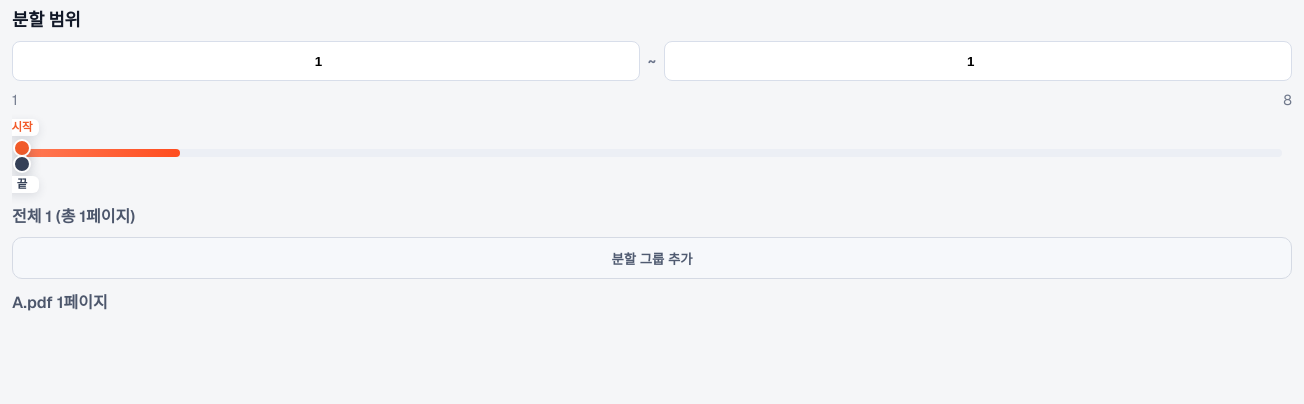
Test: SplitGroupEditor › 여러 PDF를 전체 페이지 범위로 그룹화하되 요약은 PDF별 페이지 번호로 표시한다
This screenshot has width=1304, height=404.
Replace the text in the number field named "전체 시작 페이지" with "3" at (326, 61), box [12,41,640,81]
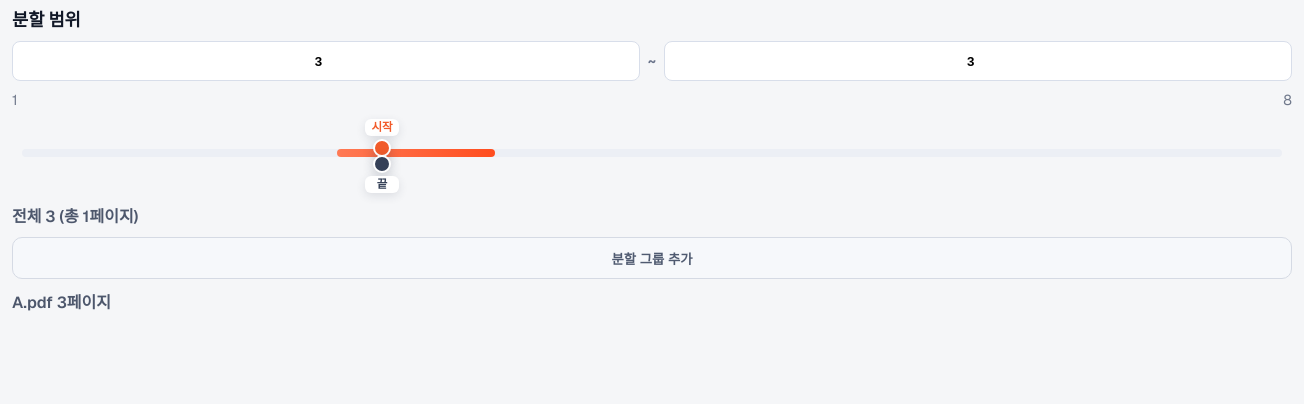
Replace the text in the number field named "전체 끝 페이지" with "8" at (978, 61), box [664,41,1292,81]
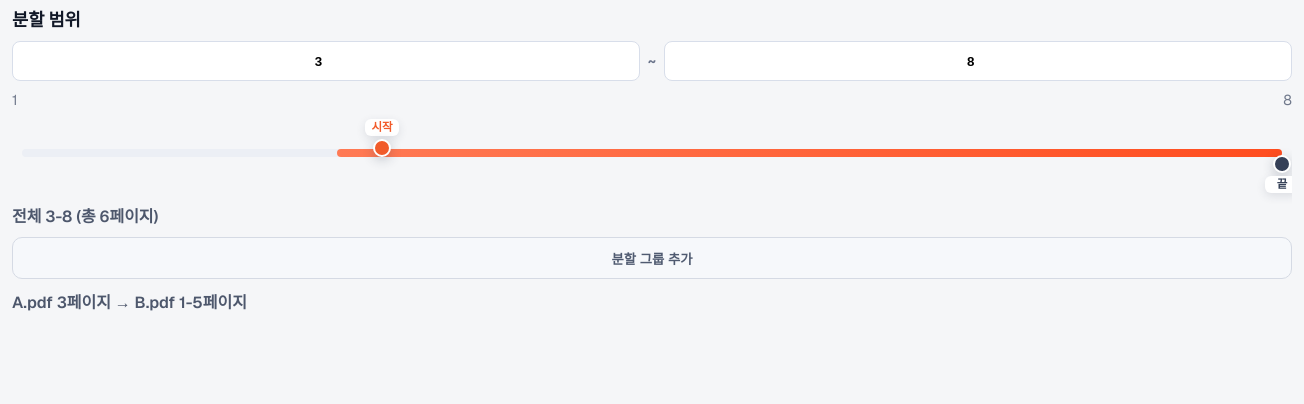
Click the button "분할 그룹 추가" at (652, 258), box [12,237,1292,279]
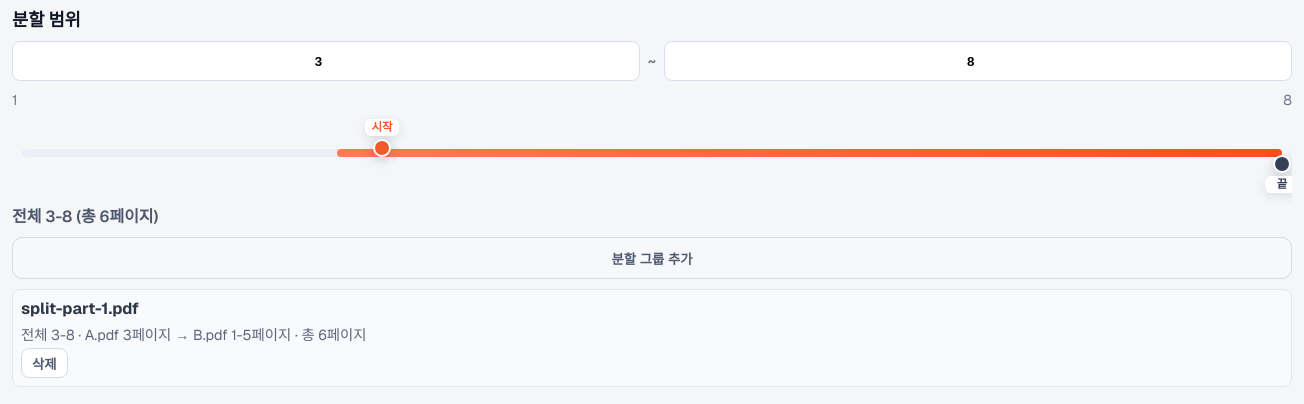
Result: the text "전체 3-8 · A.pdf 3페이지 → B.pdf 1-5페이지 · 총 6페이지" is shown at [21,326,366,344]
